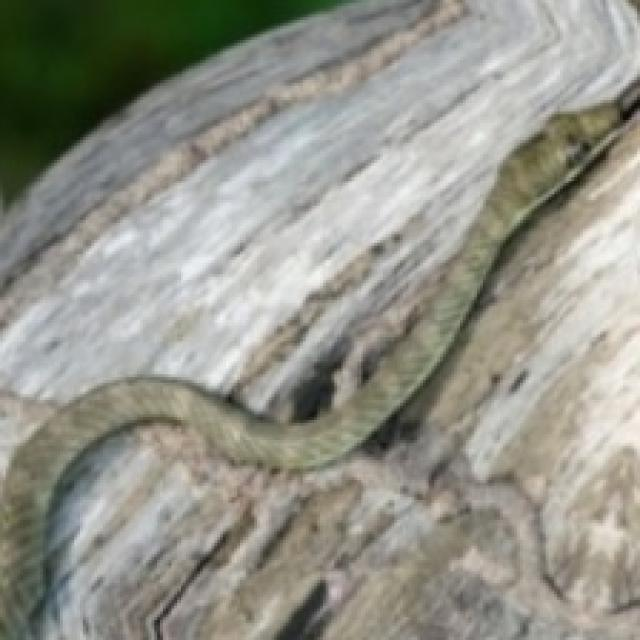paradise tree snake: (0, 0, 637, 637), (43, 374, 389, 514)
